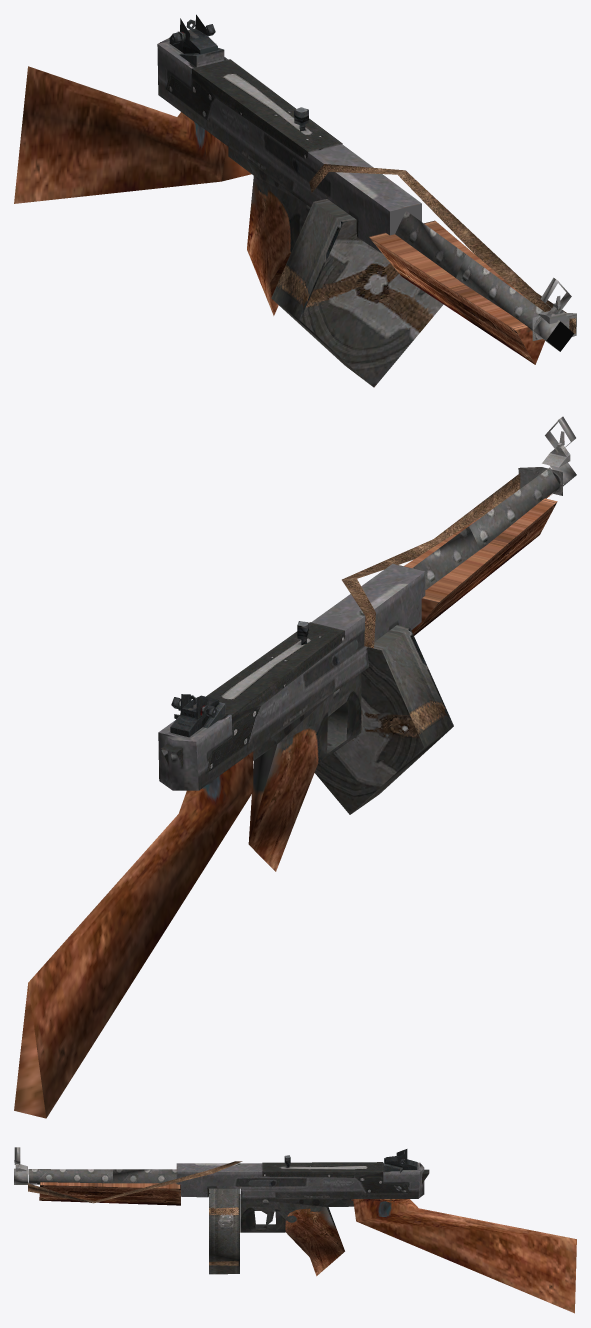
File: SMG_cfq_qs_01_lod1_Body_LOD_(000387).glb
The picture shows the model from 3 angles, top to bottom: view 1: azimuth 30°, elevation 25°; view 2: azimuth 150°, elevation 25°; view 3: azimuth 270°, elevation 25°; orthographic projection. The views are drawn at different scales.
Visible parts, largest first — view 1: cfq_qs_01_lod1; view 2: cfq_qs_01_lod1; view 3: cfq_qs_01_lod1.
Part boxes in pixels (x1=…): cfq_qs_01_lod1: x1=14, y1=14, x2=576, y2=387; cfq_qs_01_lod1: x1=14, y1=416, x2=576, y2=1118; cfq_qs_01_lod1: x1=14, y1=1147, x2=576, y2=1313.
Size of the model in its own units: 0.2611 by 0.4838 by 1.52.
Materials: 1 (1 with a texture image).
